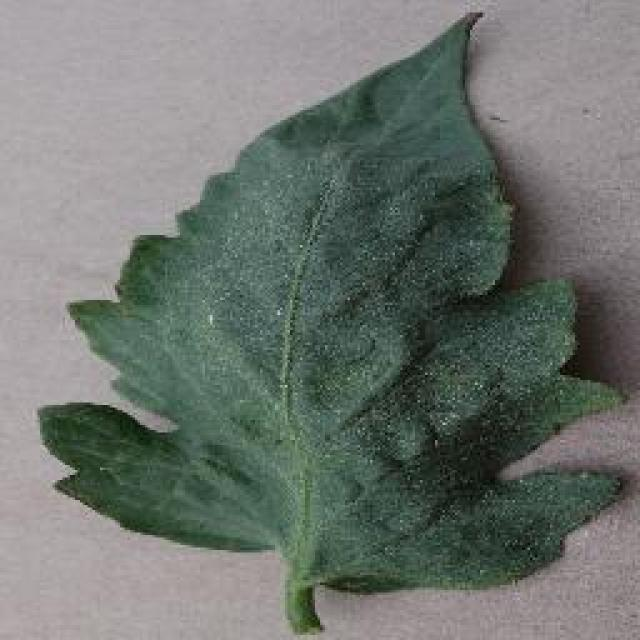Tomato___Bacterial_spot: (31, 12, 629, 631)
